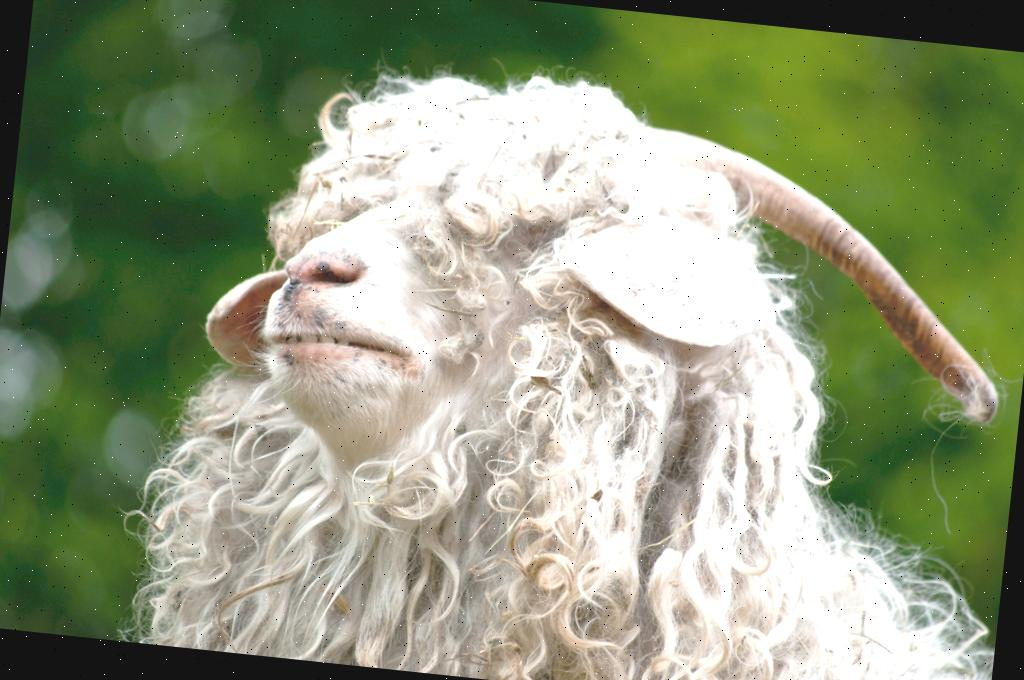Sheep: (174, 49, 972, 652)
